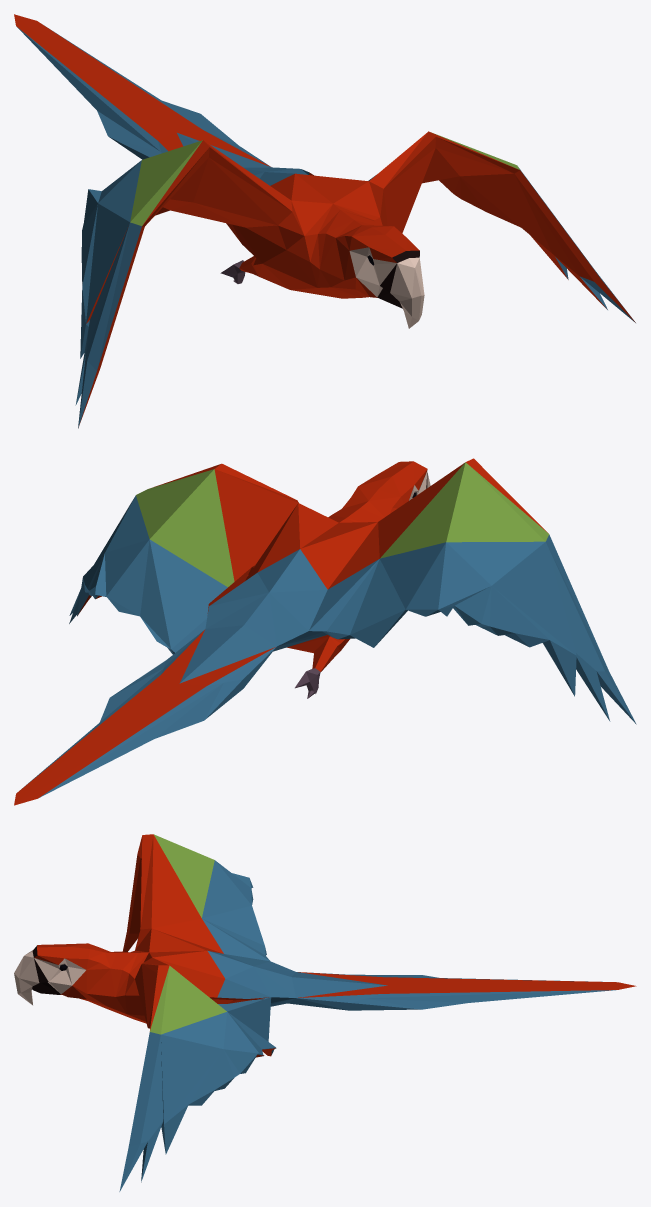
Rendered from Parrot_v7_droopy_wing.glb.
The picture shows the model from 3 angles, top to bottom: view 1: azimuth 30°, elevation 25°; view 2: azimuth 150°, elevation 25°; view 3: azimuth 270°, elevation 25°; orthographic projection. The views are drawn at different scales.
Bounding box in the file's own units: 79.5 × 36.5 × 100.
